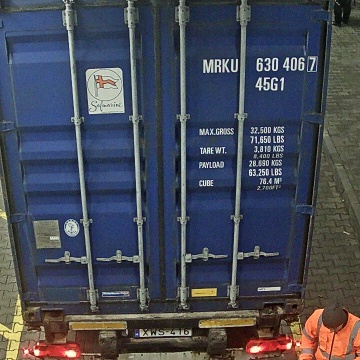serial_id: (202, 57, 317, 73)
